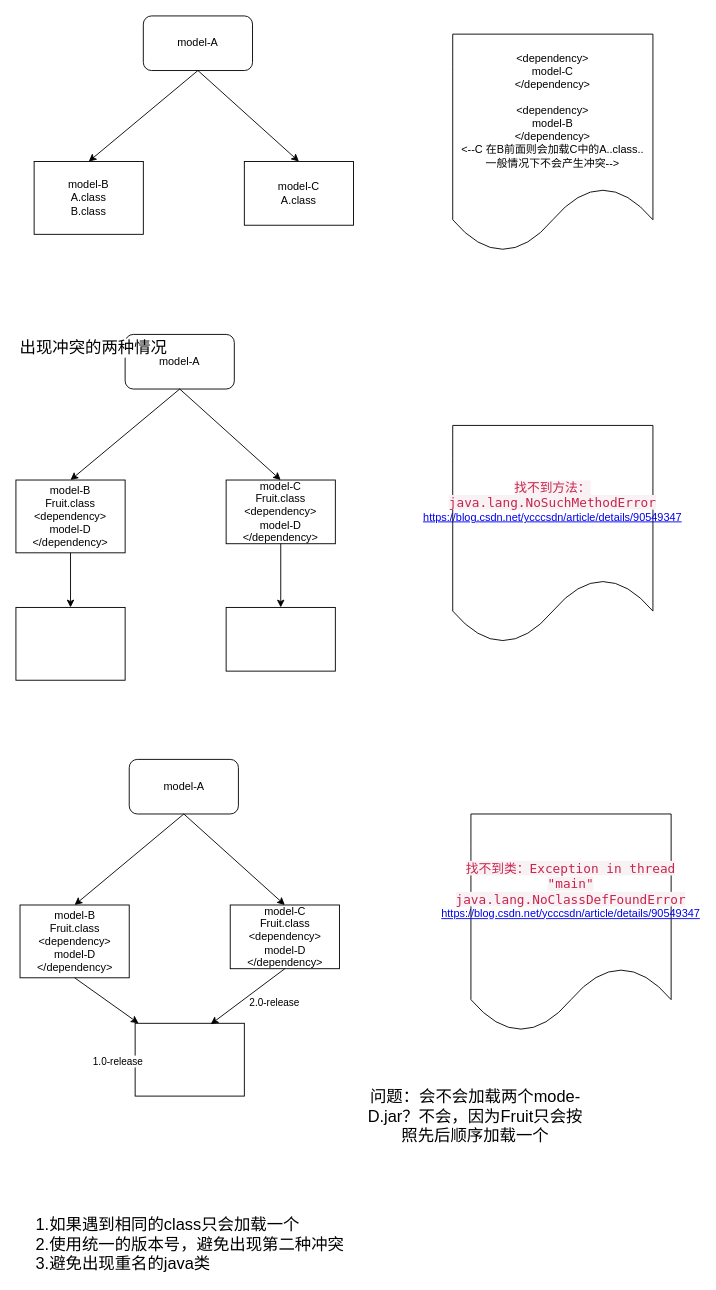
The diagram is 716 pixels wide and 1290 high, and some of its shapes have lost their labels. Here are the shapes that lost their labels. From the top down, the centre of each, then its label:
At [70,643]: "model-D A.class#getfulname()".
At [280,639]: "model-E A.class#getname()".
At [189,1059]: "model-D A.class (1.0release) A1.class (2.0release)".
